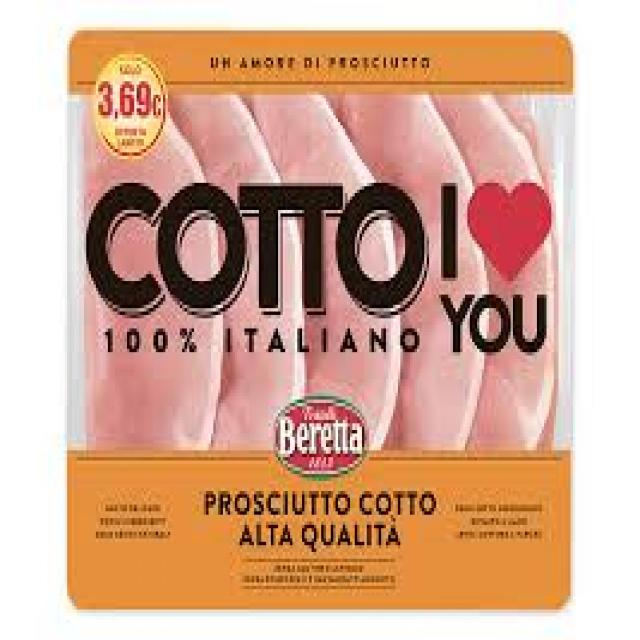ham: (65, 26, 574, 612)
